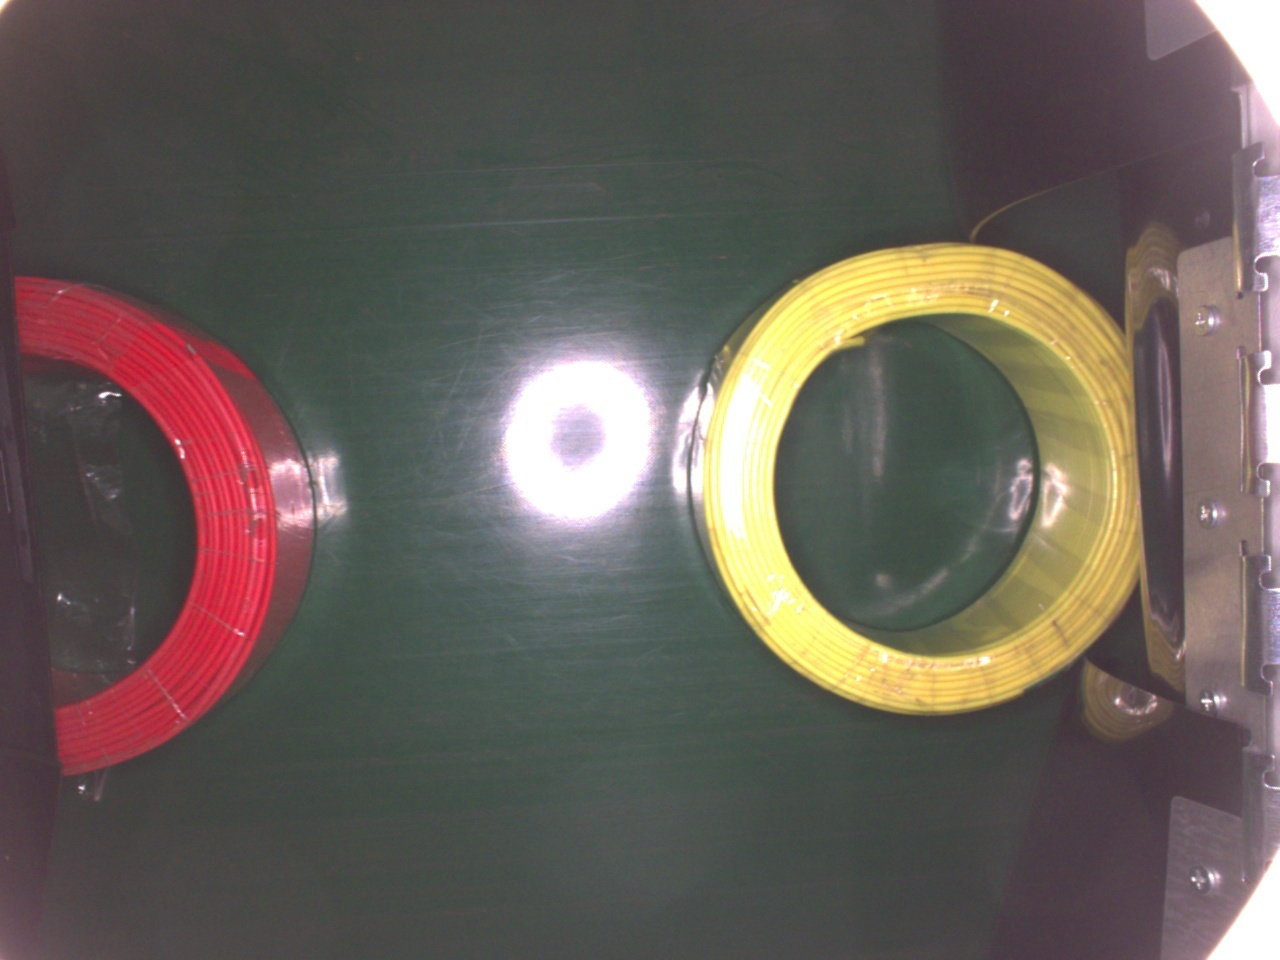red: (10, 266, 316, 781)
yellow: (691, 233, 1145, 715)
